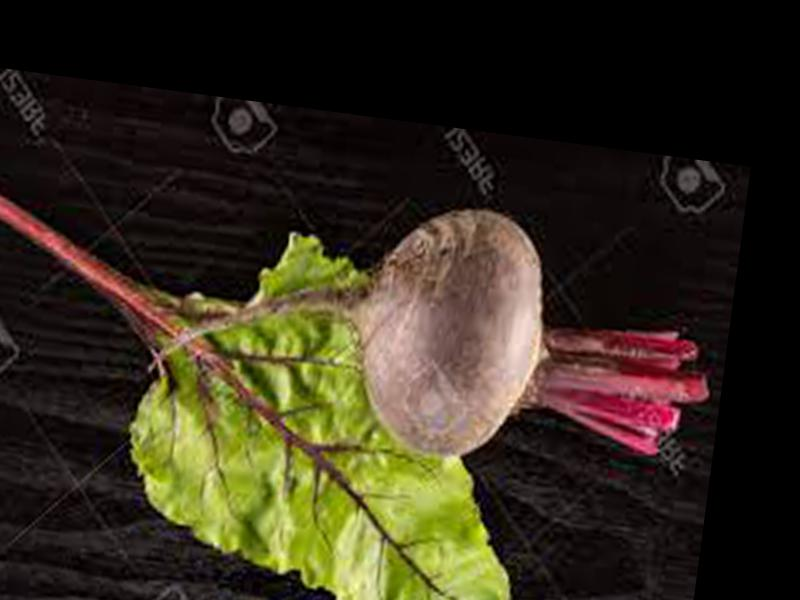Beet: (143, 169, 729, 489)
